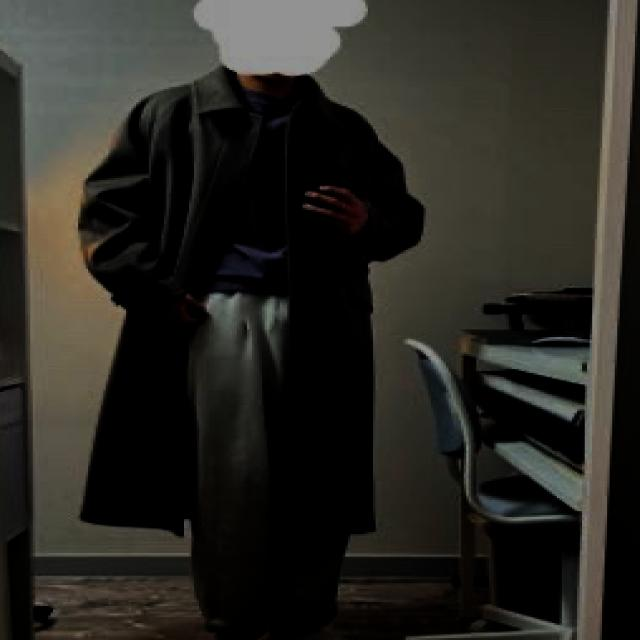coat: (75, 63, 428, 539)
mtm: (198, 87, 306, 299)
trainingpants: (184, 284, 350, 640)
